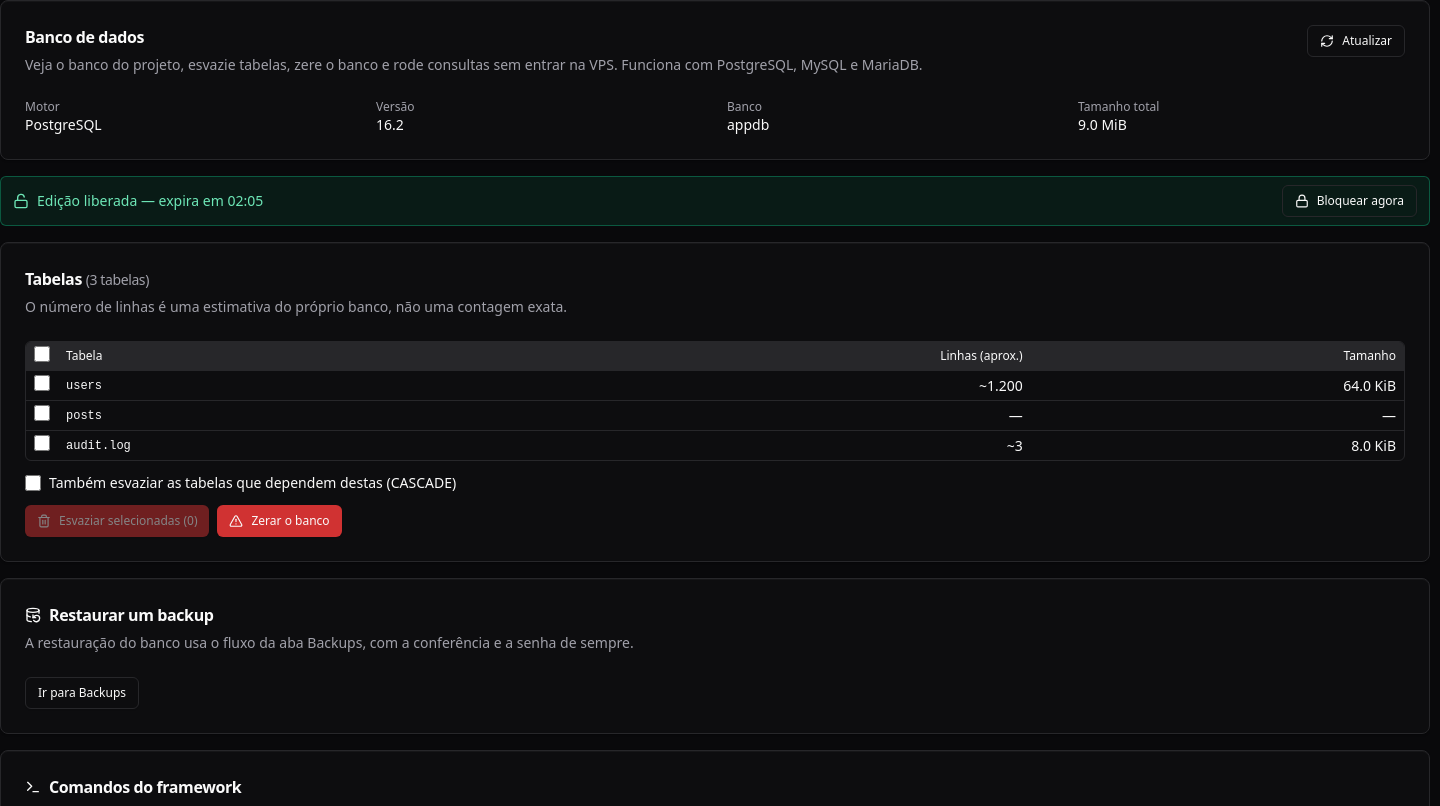
Test case: liberar a edição › desbloqueado: selo com a contagem regressiva e 'Bloquear agora'
The width and height of the screenshot is (1440, 806).
Check: the element with test id "database-overview" is shown, box [25, 98, 1159, 134]
Check: the element with test id "database-unlocked" is shown, box [0, 176, 1430, 226]
Click the button "Bloquear agora": point(1349, 201) [1282, 185, 1417, 217]
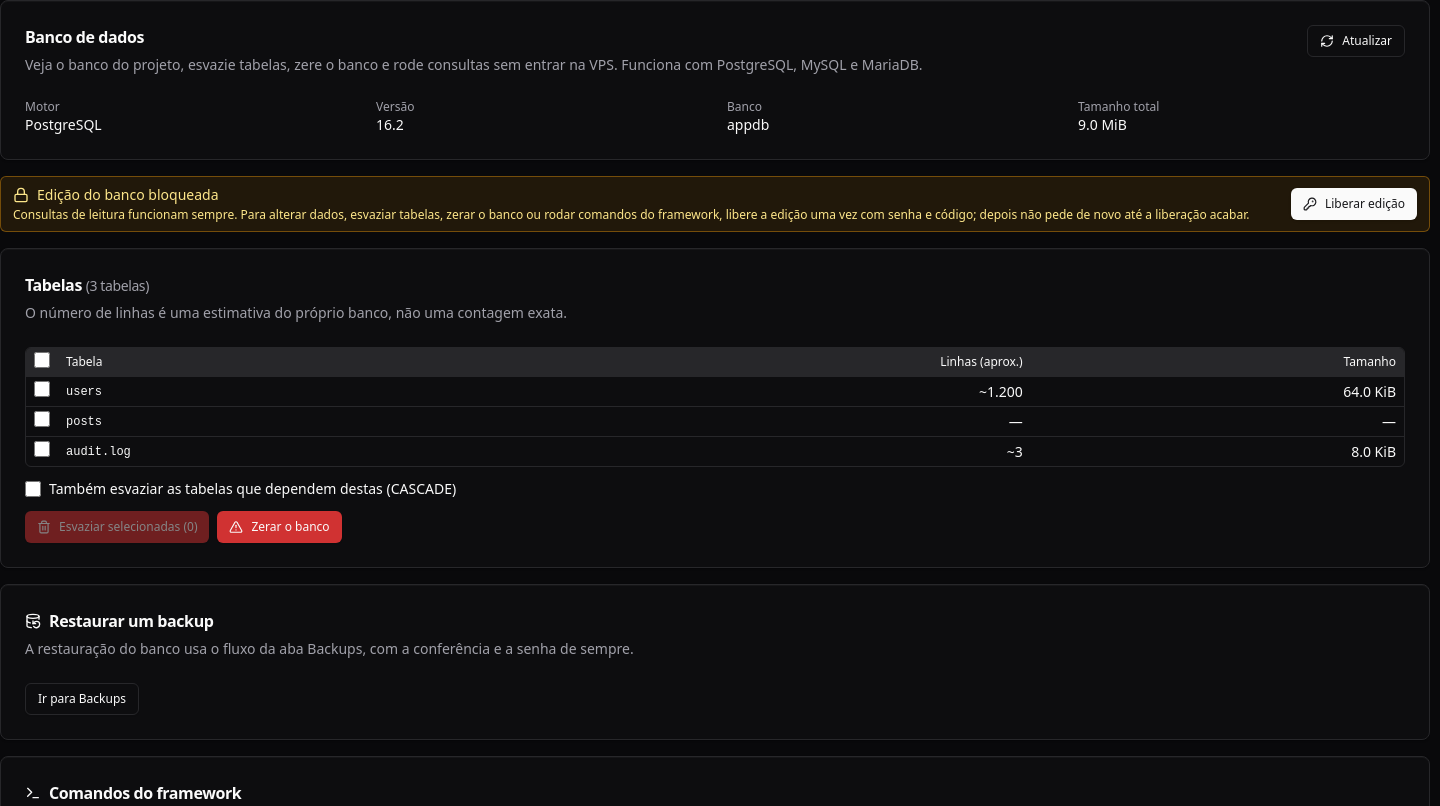
Check: the element with test id "database-locked" is shown, box [0, 176, 1430, 232]
